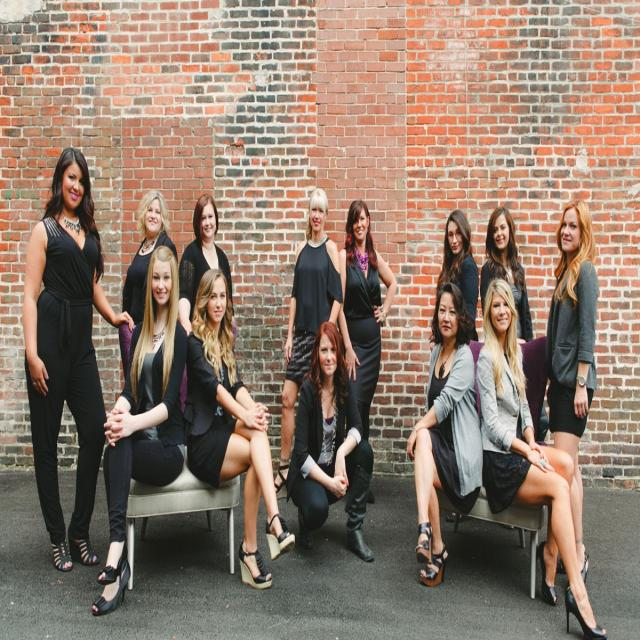body: (18, 142, 138, 575), (474, 274, 608, 639), (179, 265, 297, 591), (90, 245, 188, 617), (404, 279, 484, 590), (542, 196, 601, 602), (282, 316, 378, 564), (272, 186, 346, 497), (335, 195, 398, 443), (176, 192, 238, 338), (120, 188, 180, 336), (479, 206, 534, 344), (435, 207, 480, 343)
